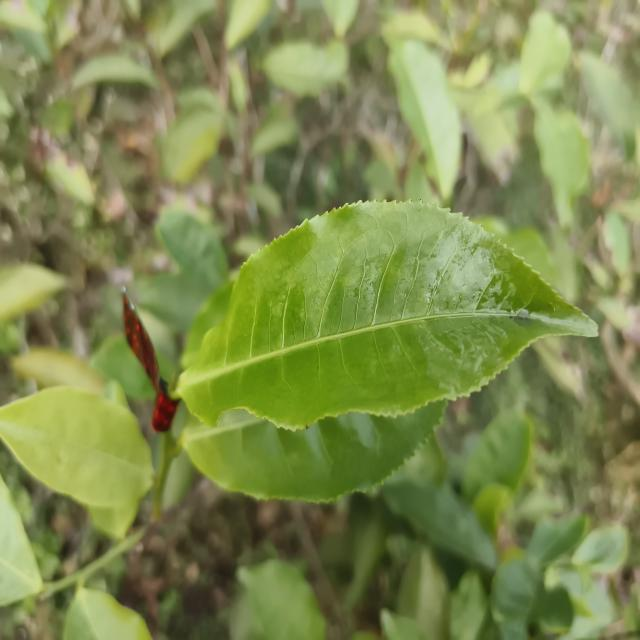Leaf: (178, 201, 597, 429), (183, 400, 447, 502), (0, 386, 153, 508), (388, 40, 461, 200), (383, 480, 497, 571), (533, 100, 589, 228), (239, 560, 325, 640), (462, 409, 533, 500), (580, 51, 640, 156), (0, 476, 43, 606), (158, 210, 227, 291), (395, 546, 451, 640), (134, 272, 213, 333), (63, 588, 152, 640), (11, 347, 106, 395), (519, 11, 571, 97), (91, 333, 155, 400), (264, 42, 343, 96), (162, 111, 220, 183), (0, 263, 67, 320), (526, 516, 588, 568), (73, 54, 157, 89), (572, 524, 629, 574)
